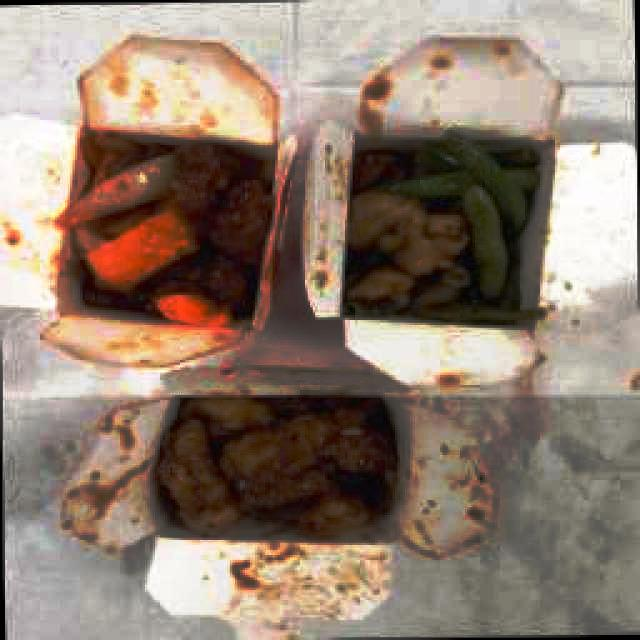Beijing Beef: (153, 394, 399, 540), (84, 134, 256, 326), (355, 144, 509, 320)
